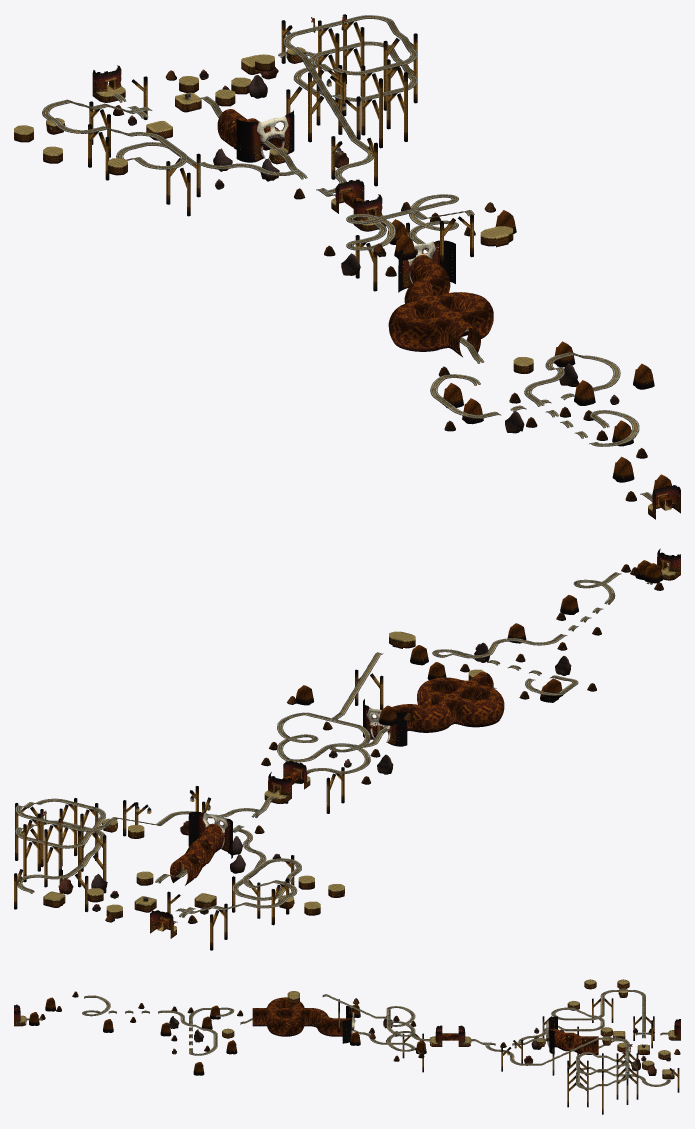
The picture shows the model from 3 angles, top to bottom: view 1: azimuth 30°, elevation 25°; view 2: azimuth 150°, elevation 25°; view 3: azimuth 270°, elevation 25°; orthographic projection. The views are drawn at different scales.
Parts seen in each view (by area): view 1: 11a6000_263, 11a6000_465, 11a6000_421, 11a6000_467, 11a6000_444; view 2: 11a6000_263, 11a6000_421, 11a6000_438, 11a6000_451, 11a6000_444; view 3: 11a6000_263, 11a6000_446, 11a6000_463, 11a6000_431, 11a6000_421, 11a6000_444, 11a6000_467.
Boxes of the visible parts, x1,y1,x2,y2 form: 11a6000_263: [236, 110, 294, 162]; 11a6000_465: [393, 315, 439, 351]; 11a6000_421: [398, 240, 455, 292]; 11a6000_467: [431, 306, 477, 351]; 11a6000_444: [408, 290, 455, 327]; 11a6000_263: [188, 811, 232, 858]; 11a6000_421: [363, 699, 407, 746]; 11a6000_438: [412, 703, 451, 732]; 11a6000_451: [462, 697, 500, 727]; 11a6000_444: [431, 689, 468, 726]; 11a6000_263: [545, 1016, 557, 1053]; 11a6000_446: [285, 1013, 304, 1036]; 11a6000_463: [266, 1013, 285, 1036]; 11a6000_431: [315, 1013, 334, 1036]; 11a6000_421: [342, 1006, 355, 1043]; 11a6000_444: [285, 1003, 310, 1026]; 11a6000_467: [261, 1003, 285, 1026].
Size of the model in its own units: 122 by 41.46 by 324.
1 material, 1 textured.
